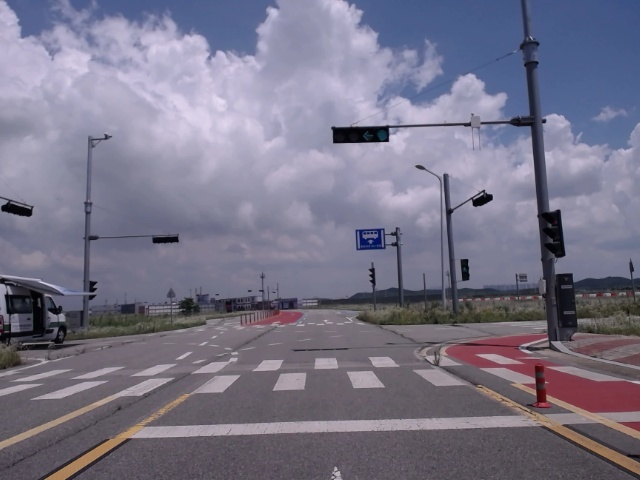all_green_4: (330, 125, 388, 143)
